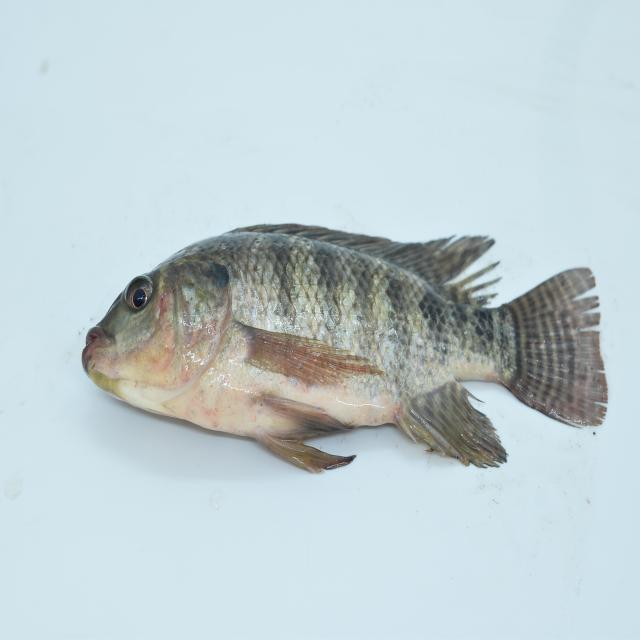Columnaris Disease: (64, 213, 616, 482)
